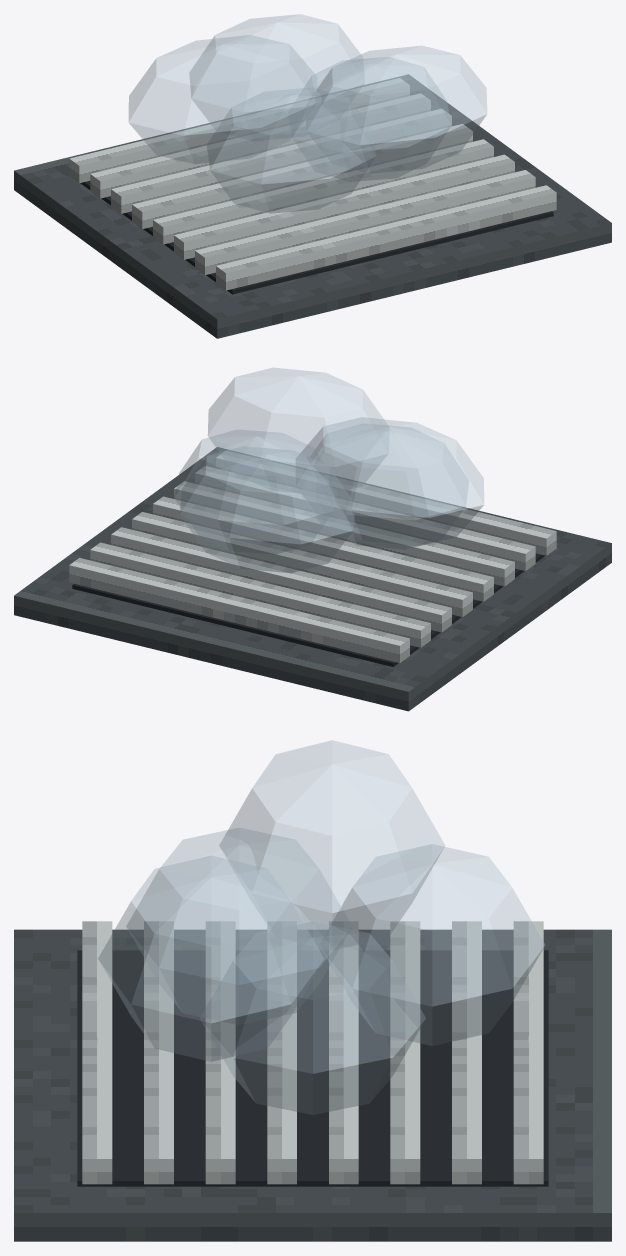
File: f_vent_cold_air2_stream.glb
3 renders of one model, top to bottom at view 1: azimuth 30°, elevation 25°; view 2: azimuth 150°, elevation 25°; view 3: azimuth 270°, elevation 25°, orthographic. The views are drawn at different scales.
Visible parts, largest first — view 1: block_soft-edged-vent-plume (×5), block_metal-grate-slat (×8), block_floor-vent-frame, block_dark-duct-opening; view 2: block_soft-edged-vent-plume (×5), block_metal-grate-slat (×8), block_floor-vent-frame, block_dark-duct-opening; view 3: block_soft-edged-vent-plume (×5), block_floor-vent-frame, block_metal-grate-slat (×8), block_dark-duct-opening.
Part boxes in pixels (x1,y1,x2,y2): block_soft-edged-vent-plume (×5): (129, 14, 486, 213); block_metal-grate-slat (×8): (69, 78, 556, 290); block_floor-vent-frame: (14, 74, 611, 338); block_dark-duct-opening: (80, 181, 553, 294); block_soft-edged-vent-plume (×5): (175, 368, 483, 572); block_metal-grate-slat (×8): (69, 451, 556, 662); block_floor-vent-frame: (14, 447, 611, 711); block_dark-duct-opening: (72, 553, 545, 666); block_soft-edged-vent-plume (×5): (98, 740, 544, 1114); block_floor-vent-frame: (14, 929, 611, 1241); block_metal-grate-slat (×8): (82, 921, 543, 1184); block_dark-duct-opening: (77, 950, 548, 1186).
Size of the model in its own units: 0.74 by 0.336 by 0.66.
2 materials, 2 textured.
